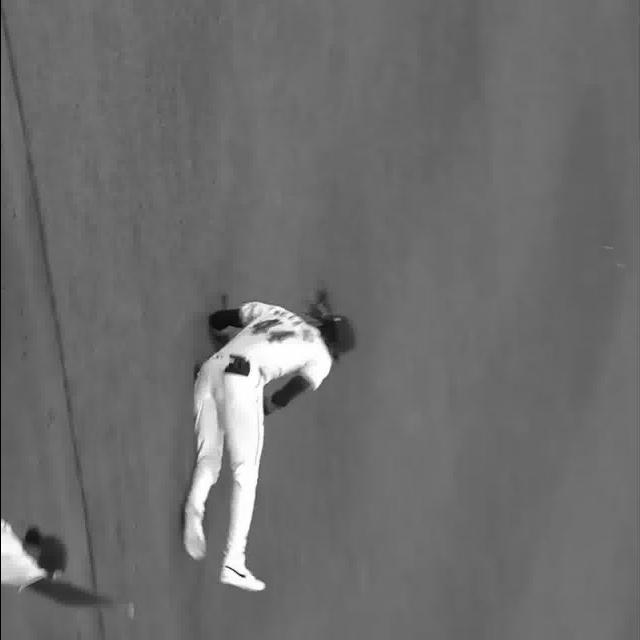shoe: (180, 500, 212, 562), (217, 562, 263, 598)
